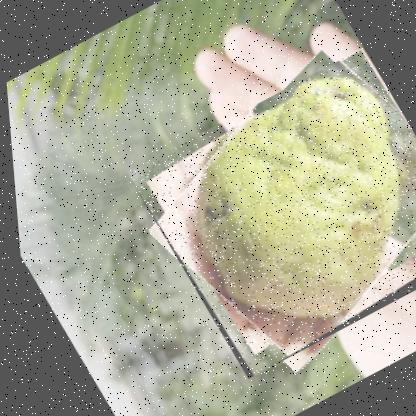guava: (113, 46, 415, 380)
